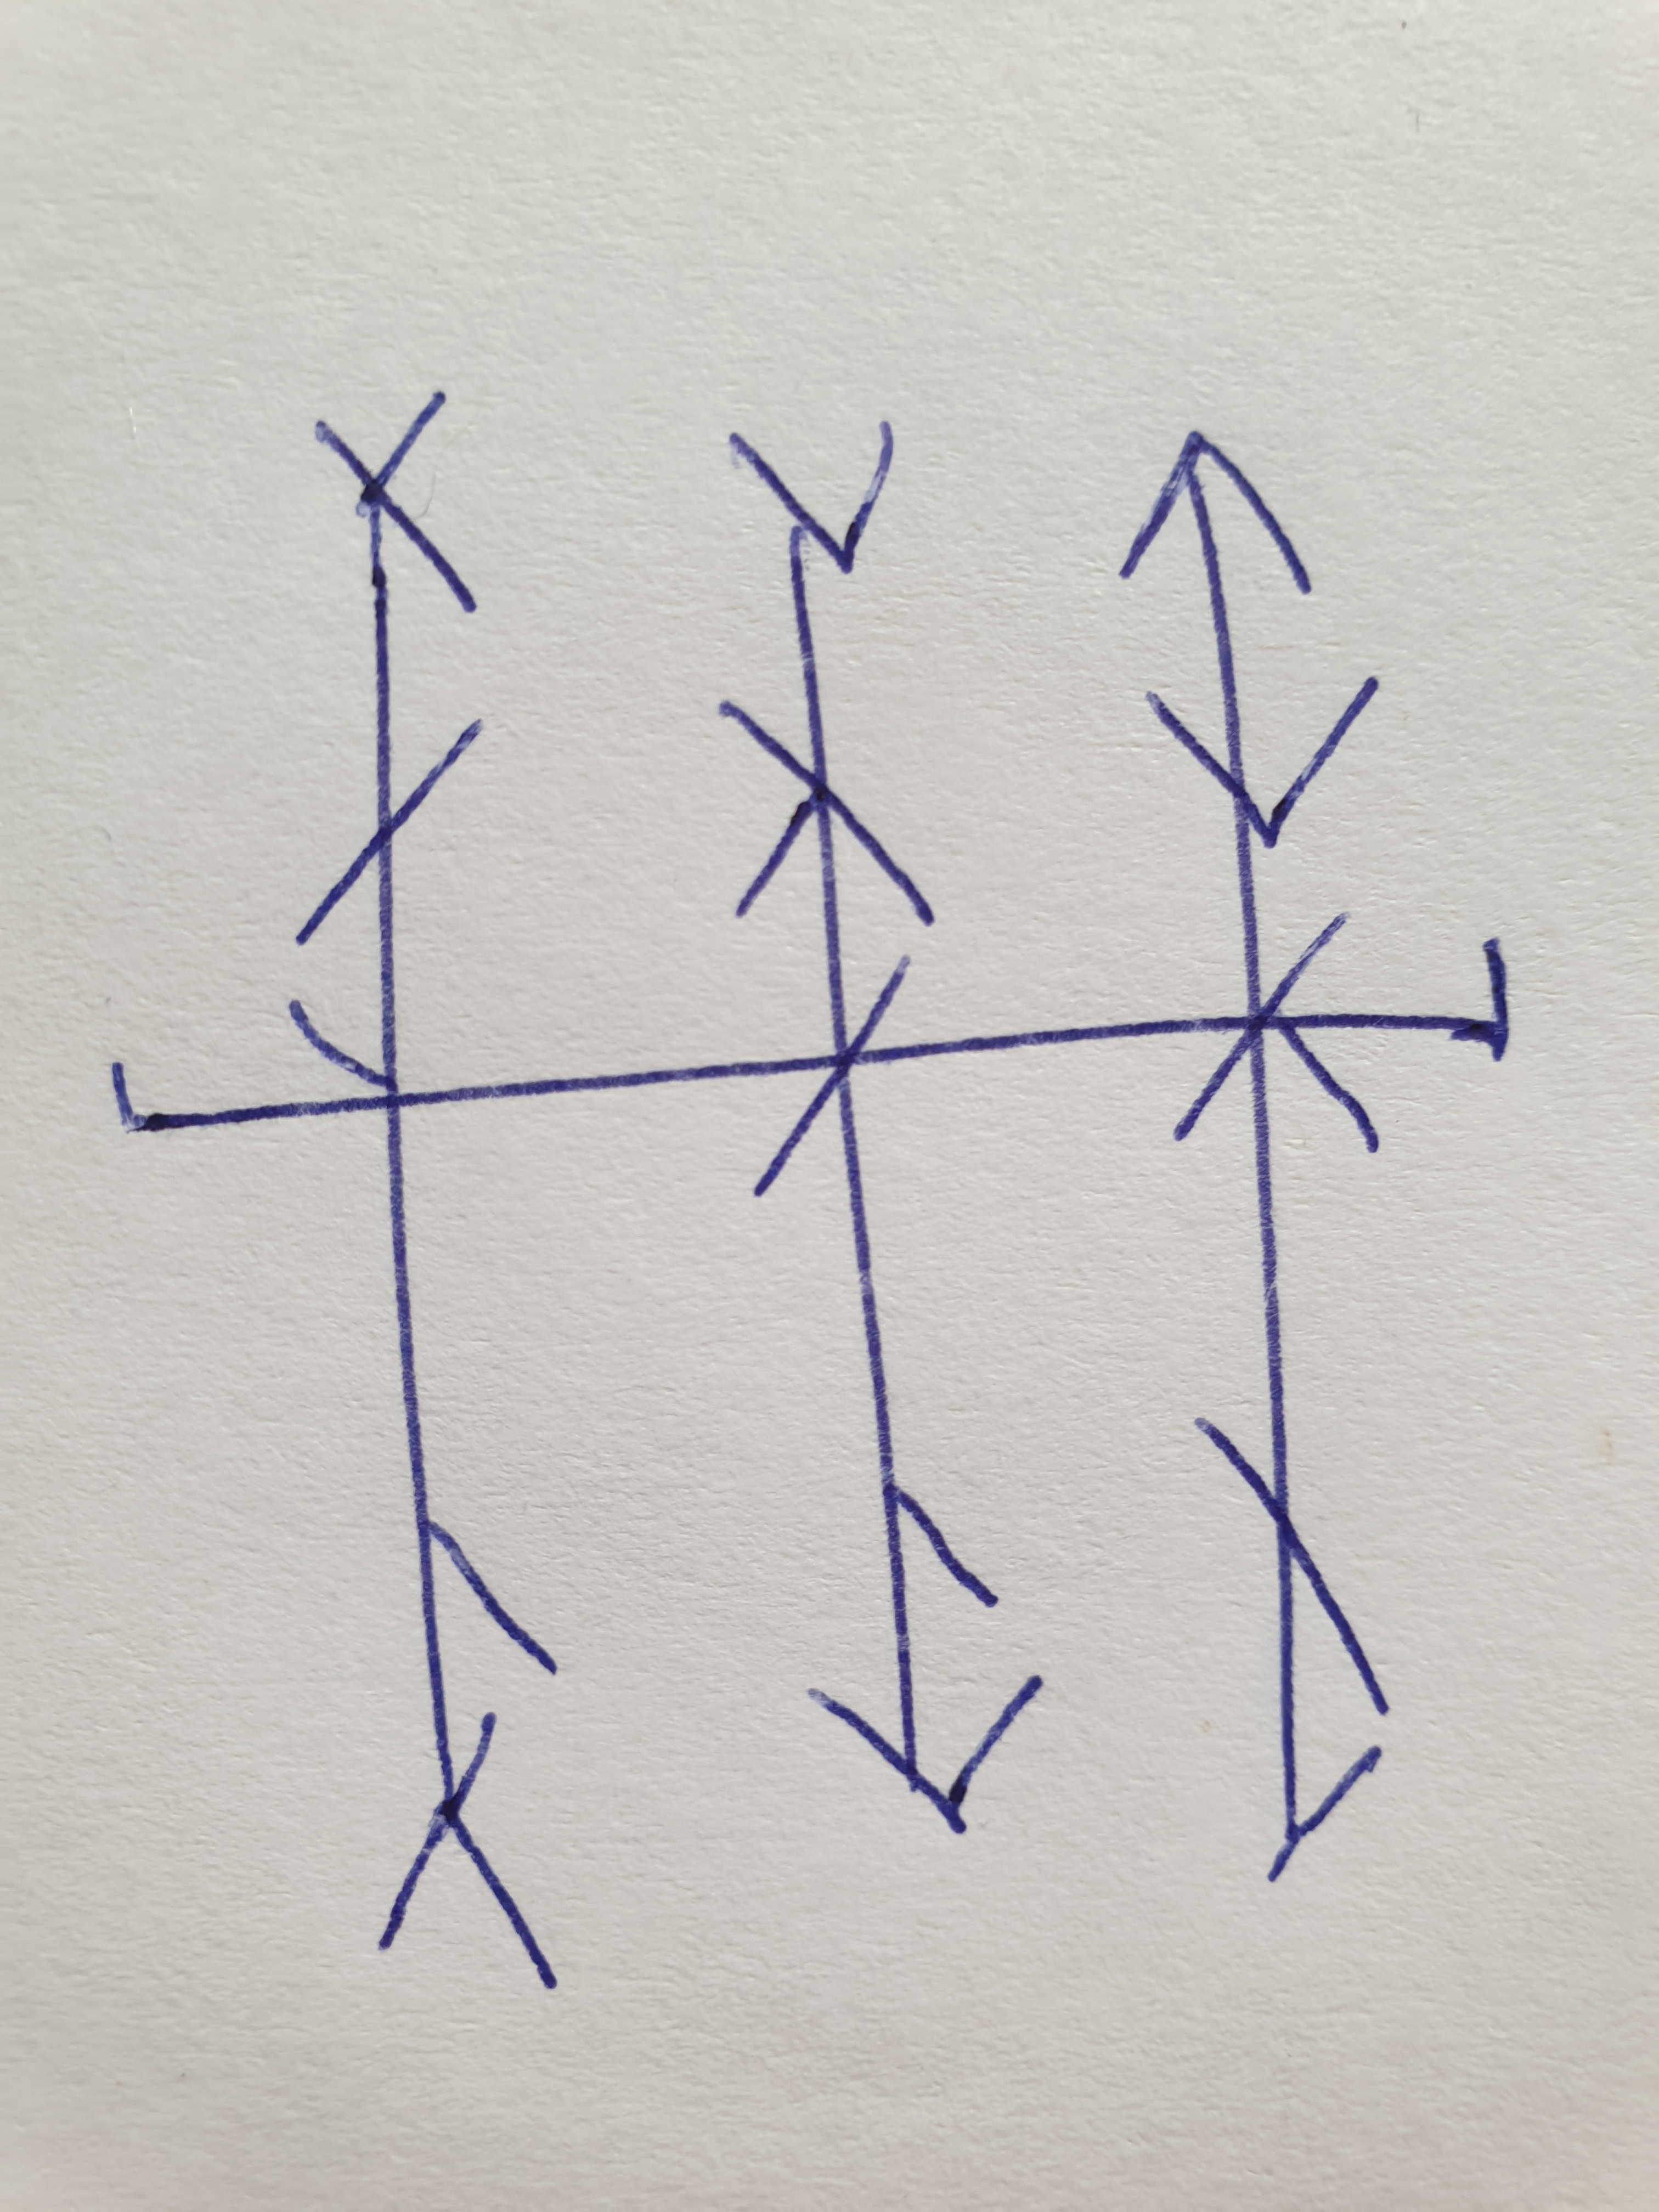Bar: (720, 420, 1044, 1838), (291, 392, 563, 1986), (1117, 432, 1387, 1885)
Barcode: (110, 388, 1511, 1991)
End: (1337, 935, 1509, 1061)
Start: (110, 1059, 321, 1134)
